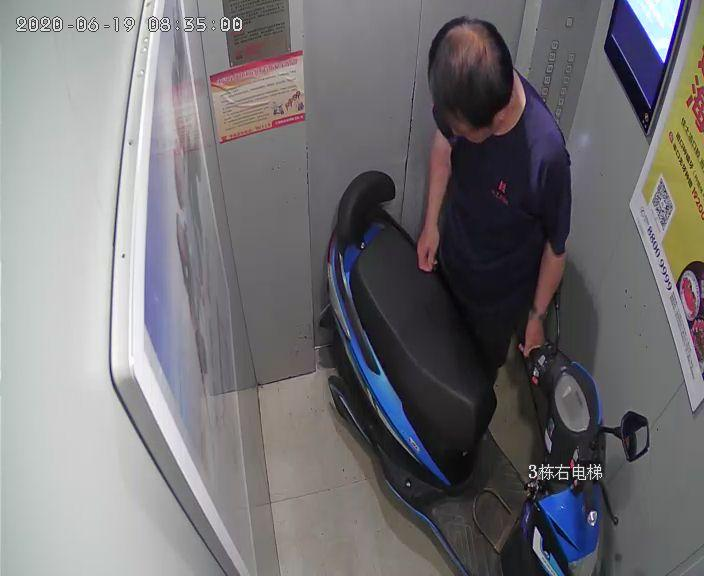Electric-bicycle: (312, 173, 646, 574)
